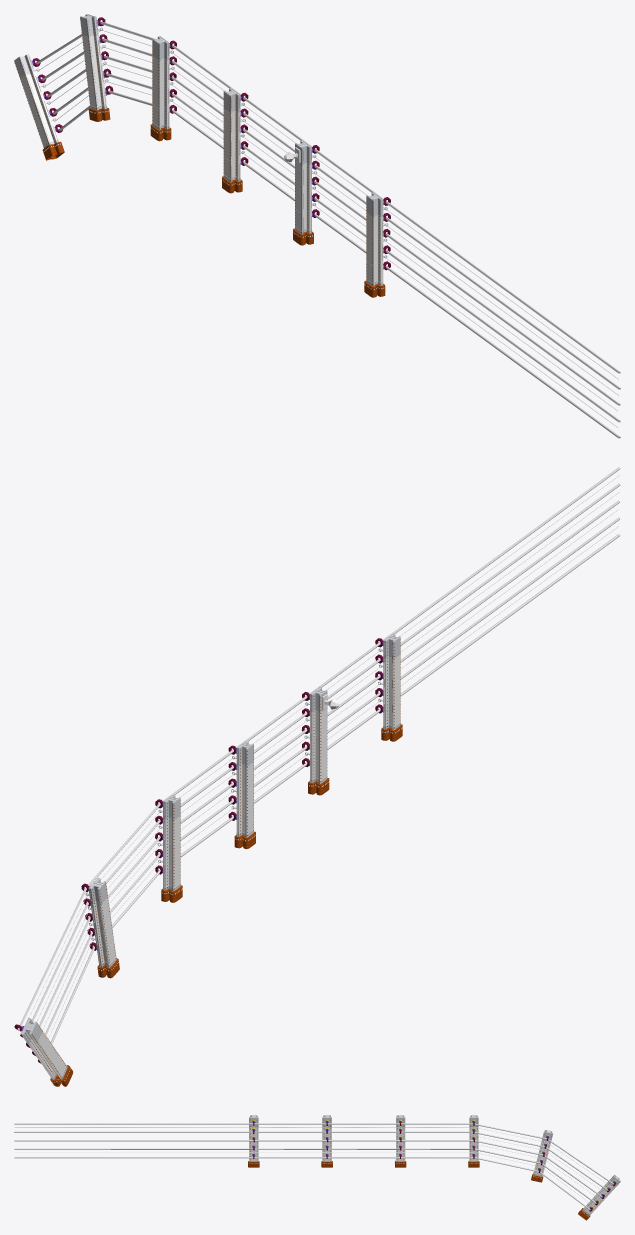
Rendered from fence_light.glb.
The picture shows the model from 3 angles, top to bottom: view 1: azimuth 30°, elevation 25°; view 2: azimuth 150°, elevation 25°; view 3: azimuth 270°, elevation 25°; orthographic projection. The views are drawn at different scales.
Visible parts, largest first — view 1: fence; view 2: fence; view 3: fence.
Boxes of the visible parts, box(x1,y1,x2,y2) form: fence: box(14, 14, 620, 438); fence: box(14, 467, 620, 1086); fence: box(14, 1115, 620, 1220).
Bounding box in the file's own units: 0.5704 × 3.1 × 16.55.
